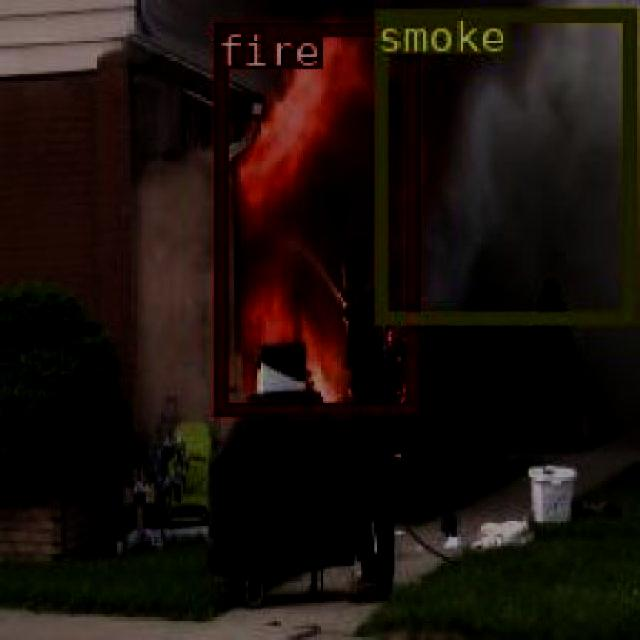fire: (212, 20, 414, 412)
smoke: (373, 9, 632, 322)
